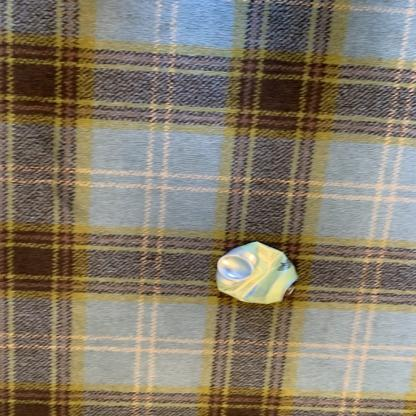trash: (215, 242, 303, 307)
